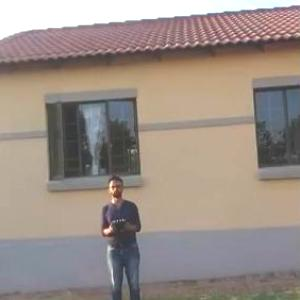follow: (98, 169, 148, 299)
